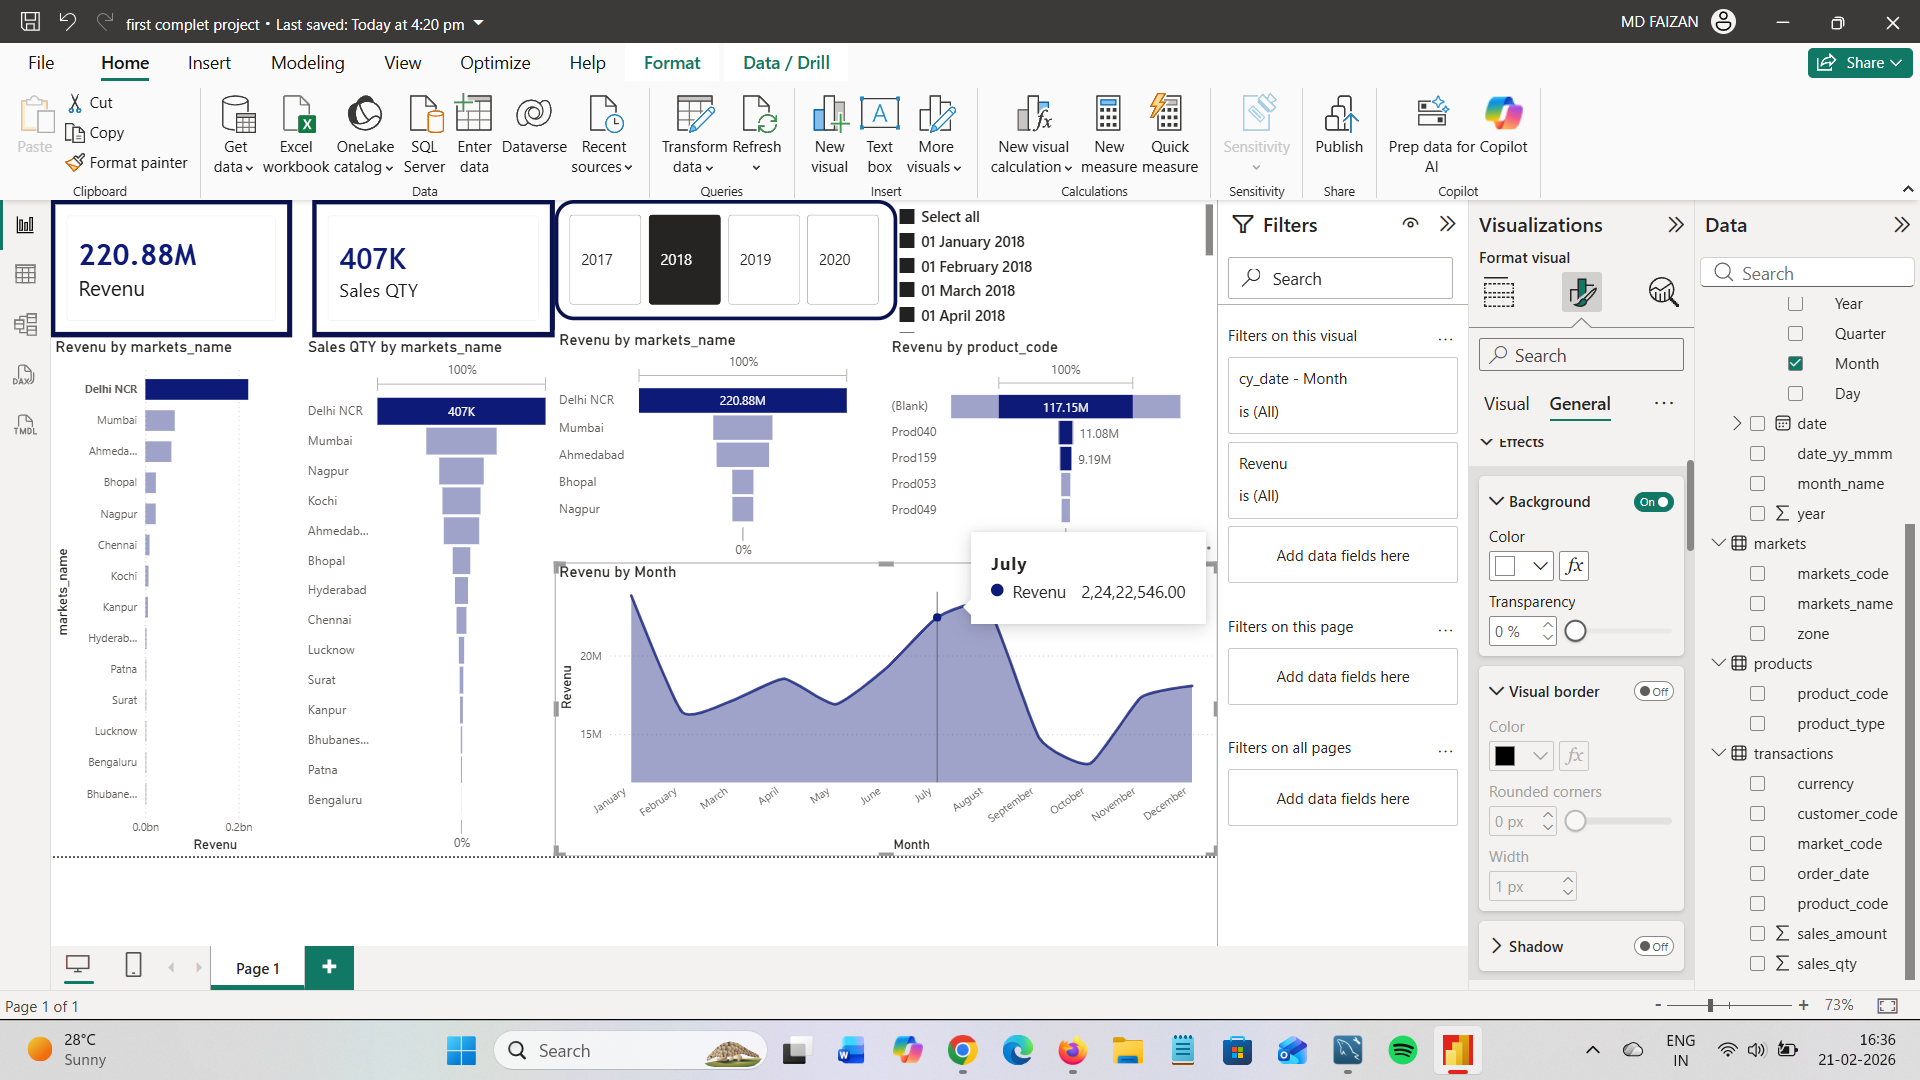

The page's visual inventory and layout, read from the dashboard file:
{"tool":"powerbi","page":{"name":"Page 1","canvas":[1280,720],"ordinal":0},"visuals":[{"type":"cardVisual","fields":{"Data":["basemezor.revenu"]},"box":[0,0,264.8,150.9],"z":0},{"type":"cardVisual","fields":{"Data":["basemezor.seles QTY"]},"box":[286.8,0,266.2,150.9],"z":1},{"type":"barChart","fields":{"Category":["markets.markets_name"],"Y":["basemezor.revenu"]},"box":[0,150.9,277.2,569.5],"z":2},{"type":"funnel","fields":{"Y":["basemezor.seles QTY"],"Category":["markets.markets_name"]},"box":[277.2,150.9,275.8,569.5],"z":3},{"type":"slicer","fields":{"Values":["date.cy_date"]},"box":[918,0,362.3,150.9],"z":4},{"type":"advancedSlicerVisual","fields":{"Values":["date.cy_date.Variation.Date Hierarchy.Year"]},"box":[553,0,376,131.7],"z":5},{"type":"funnel","fields":{"Y":["basemezor.revenu"],"Category":["markets.markets_name"]},"box":[553,142.7,330.7,255.2],"z":6},{"type":"funnel","fields":{"Y":["basemezor.revenu"],"Category":["products.product_code"]},"box":[918,150.9,332.1,247],"z":7},{"type":"stackedAreaChart","fields":{"Y":["basemezor.revenu"],"Category":["date.cy_date.Variation.Date Hierarchy.Month"]},"box":[553,397.9,727.3,322.5],"z":8}]}

Visuals, with their boxes on the page's 1280x720 design canvas (x1, y1, x2, y2). These are canvas units, not pixel positions in the 1920x1080 screenshot, which may show the page scaled, cropped or inside an application window:
cardVisual - basemezor.revenu: BBox(0, 0, 265, 151)
cardVisual - basemezor.seles QTY: BBox(287, 0, 553, 151)
barChart - markets.markets_name x basemezor.revenu: BBox(0, 151, 277, 720)
funnel - basemezor.seles QTY x markets.markets_name: BBox(277, 151, 553, 720)
slicer - date.cy_date: BBox(918, 0, 1280, 151)
advancedSlicerVisual - date.cy_date.Variation.Date Hierarchy.Year: BBox(553, 0, 929, 132)
funnel - basemezor.revenu x markets.markets_name: BBox(553, 143, 884, 398)
funnel - basemezor.revenu x products.product_code: BBox(918, 151, 1250, 398)
stackedAreaChart - basemezor.revenu x date.cy_date.Variation.Date Hierarchy.Month: BBox(553, 398, 1280, 720)
